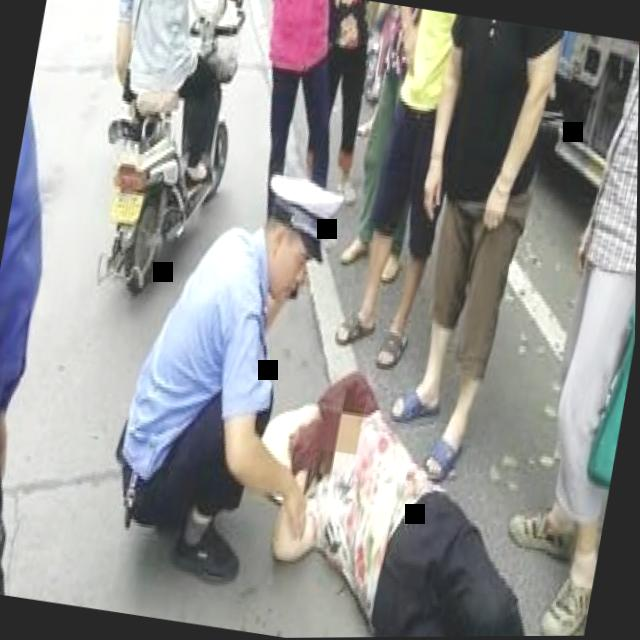Fall-Detected: (226, 345, 626, 639)
